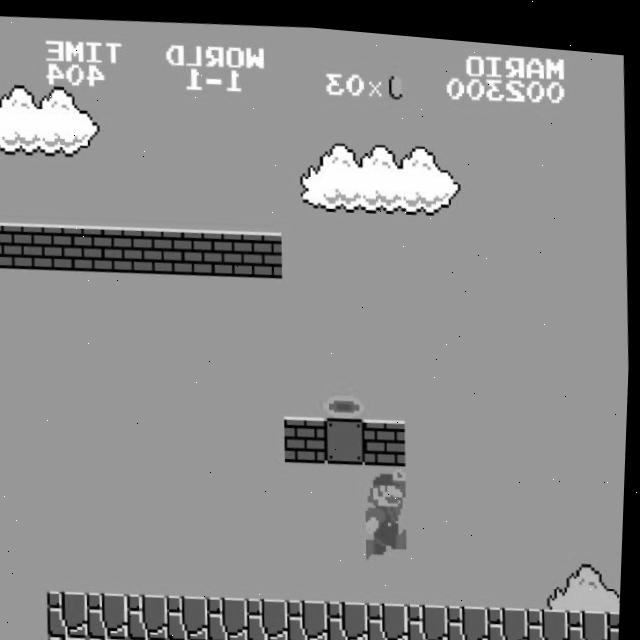0- big_mario: (366, 456, 417, 555)
1- brick_block: (365, 410, 410, 461), (161, 223, 206, 273), (121, 223, 166, 273), (81, 222, 126, 272), (41, 221, 86, 271), (1, 221, 46, 271), (286, 408, 330, 459), (242, 225, 286, 275), (202, 224, 246, 274), (0, 222, 5, 269)
17- undestructible_block: (130, 589, 174, 640), (90, 589, 134, 640), (50, 588, 94, 639), (210, 590, 254, 640), (170, 590, 214, 640), (250, 591, 294, 640), (370, 593, 415, 640), (290, 592, 334, 640), (330, 593, 374, 640), (410, 594, 454, 640), (490, 595, 534, 640), (450, 595, 494, 640), (530, 596, 574, 640), (570, 597, 614, 640), (611, 598, 624, 640), (51, 633, 94, 640), (131, 634, 174, 640), (91, 634, 134, 640), (171, 635, 214, 640), (211, 636, 254, 640), (251, 637, 294, 640), (331, 638, 374, 640), (291, 638, 334, 640), (371, 639, 414, 640), (412, 640, 454, 640)
3- empty_block: (325, 409, 370, 460)
6- flower: (326, 384, 371, 418)
